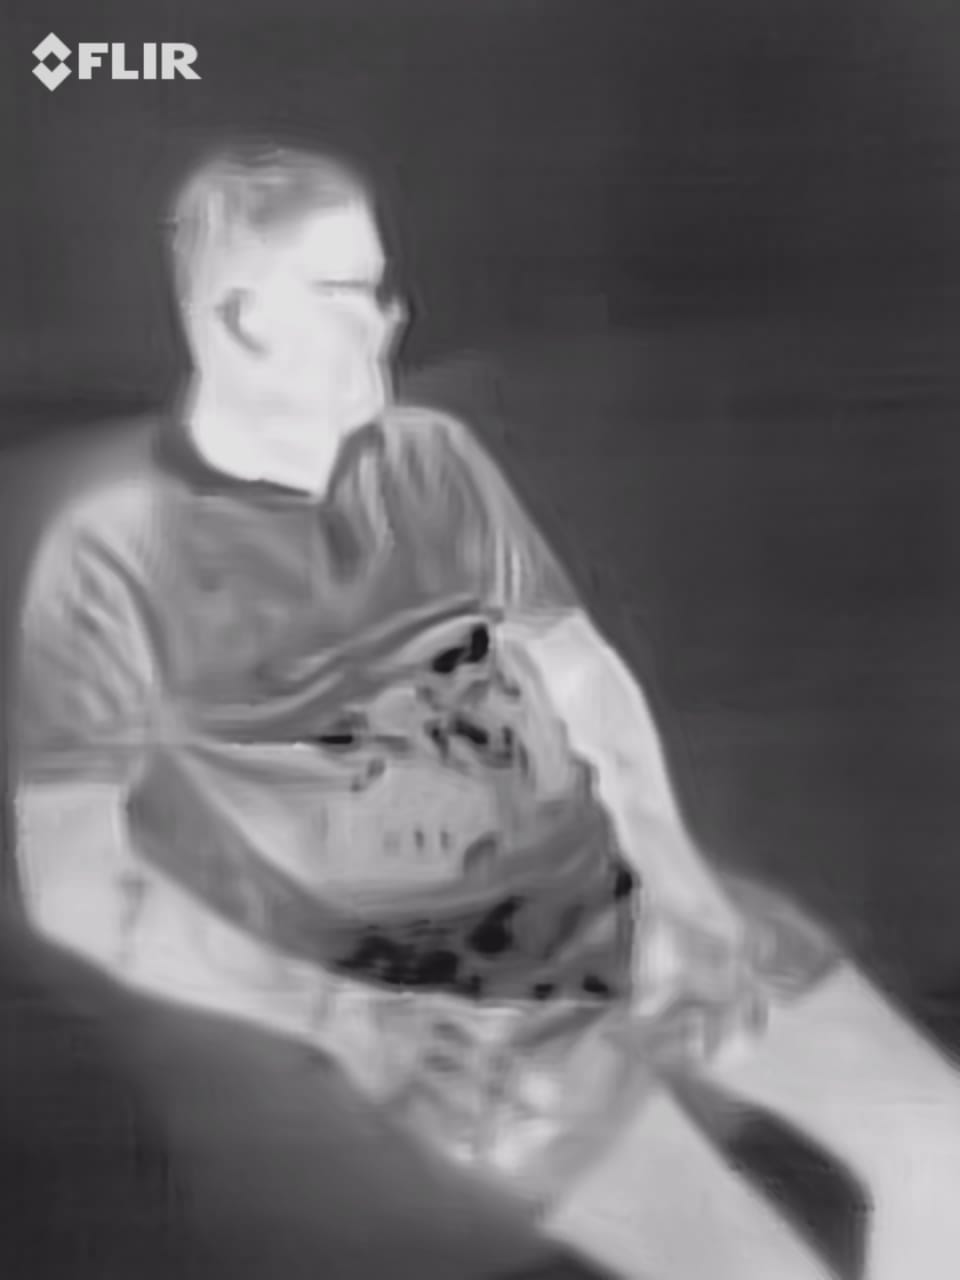head: (161, 141, 438, 437)
